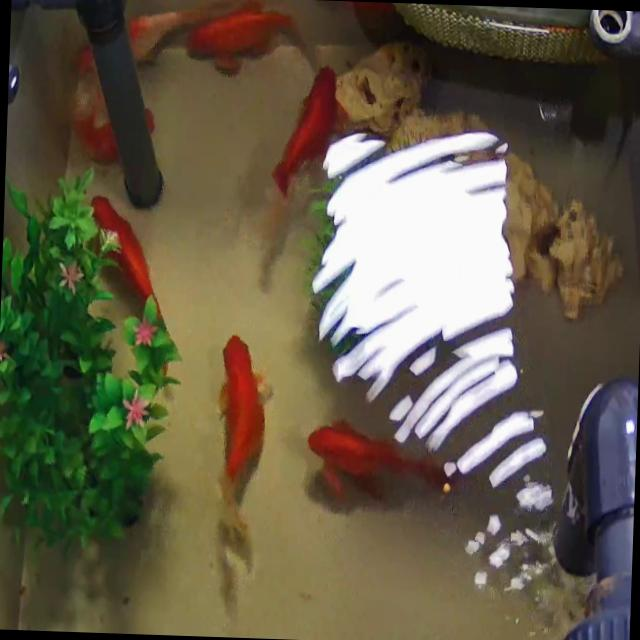fish: (204, 303, 274, 571), (293, 406, 453, 522), (82, 193, 182, 356), (264, 56, 356, 192), (184, 0, 309, 70), (78, 0, 185, 73), (67, 107, 178, 154), (304, 0, 398, 15)
